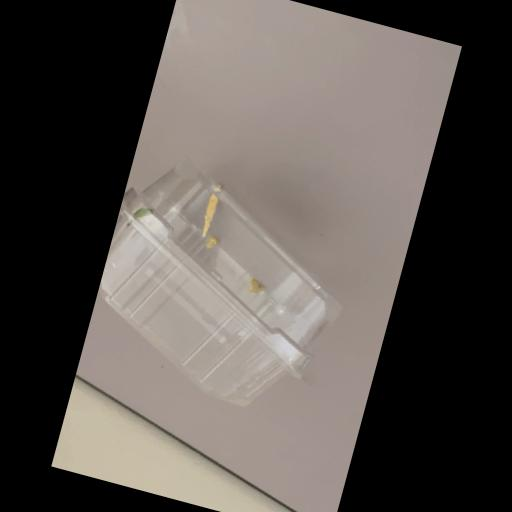small_plastic_container: (77, 144, 373, 430)
